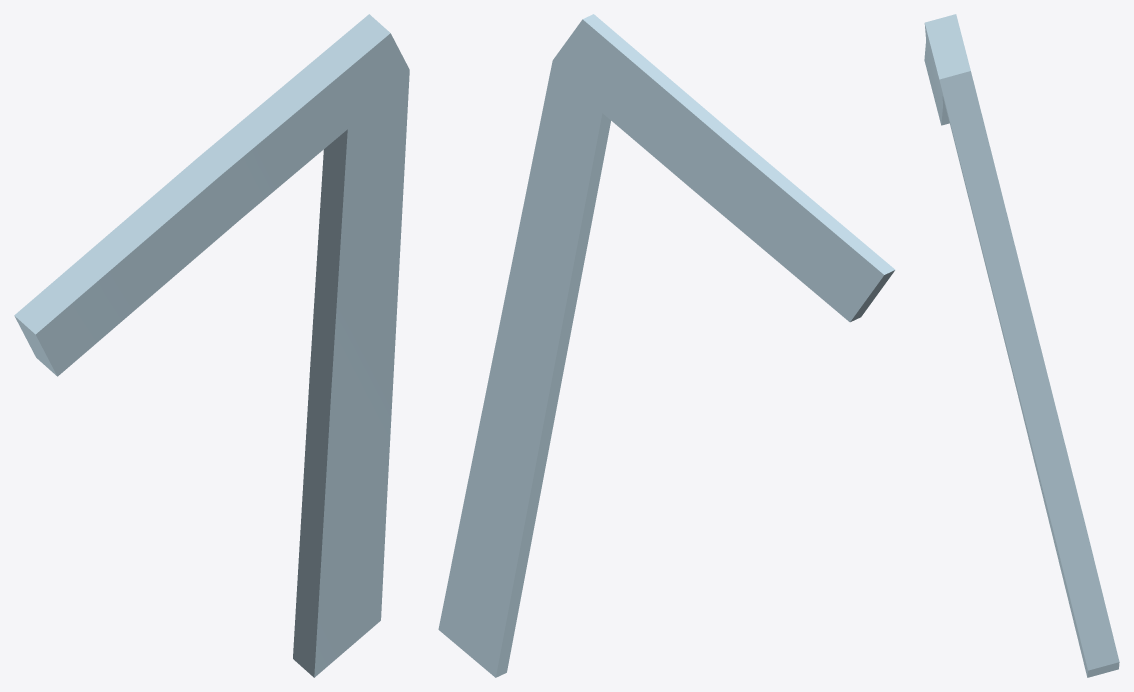
Rendered from Number_7.gltf.
3 views of the same model, side by side, from view 1: azimuth 30°, elevation 25°; view 2: azimuth 150°, elevation 25°; view 3: azimuth 270°, elevation 25° (orthographic). The views are drawn at different scales.
Parts seen in each view (by area): view 1: Sub_3_Cell_2_2_Number_7; view 2: Sub_3_Cell_2_2_Number_7; view 3: Sub_3_Cell_2_2_Number_7.
Boxes of the visible parts, x1=… form: Sub_3_Cell_2_2_Number_7: x1=14, y1=14, x2=409, y2=677; Sub_3_Cell_2_2_Number_7: x1=438, y1=14, x2=895, y2=677; Sub_3_Cell_2_2_Number_7: x1=924, y1=14, x2=1119, y2=677.
Size of the model in its own units: 0.0179 by 0.0281 by 0.00758.
